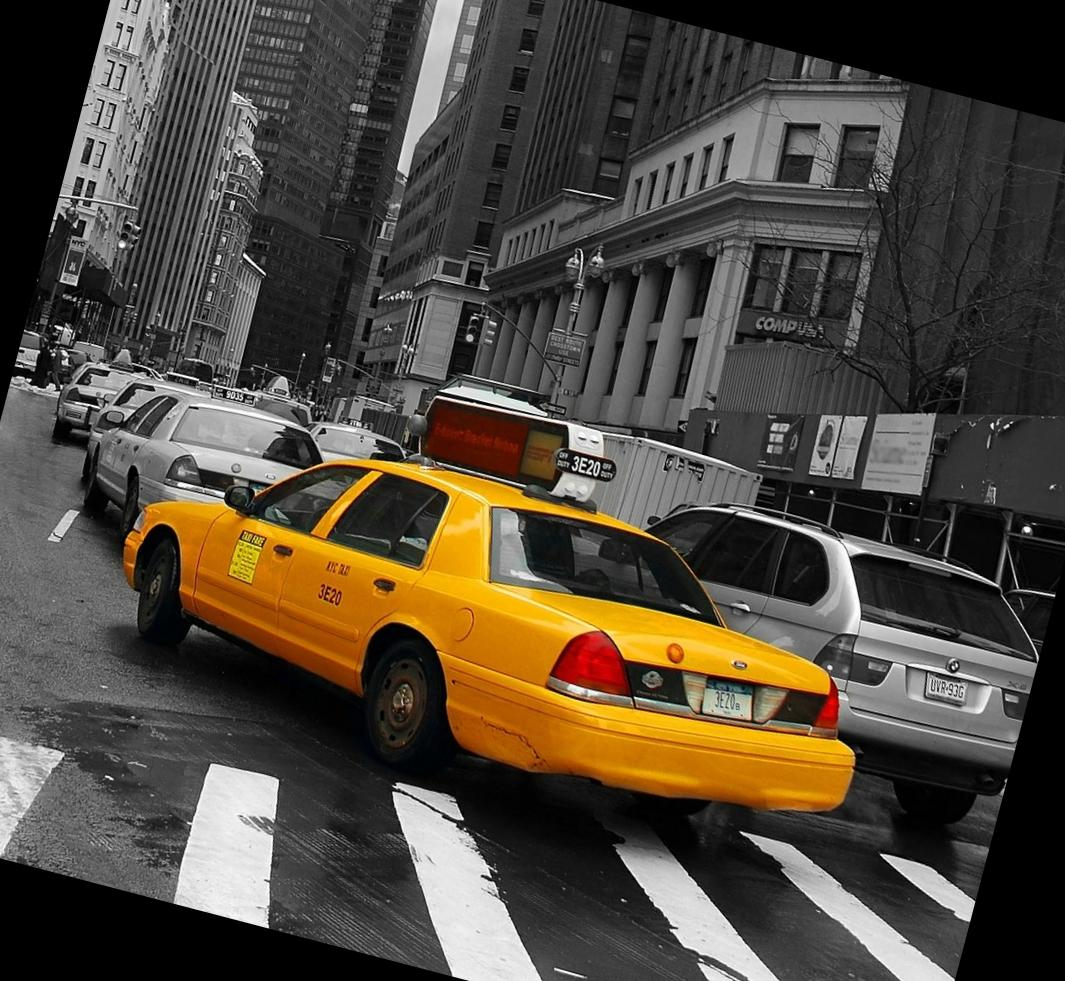taxi: (113, 438, 844, 867)
